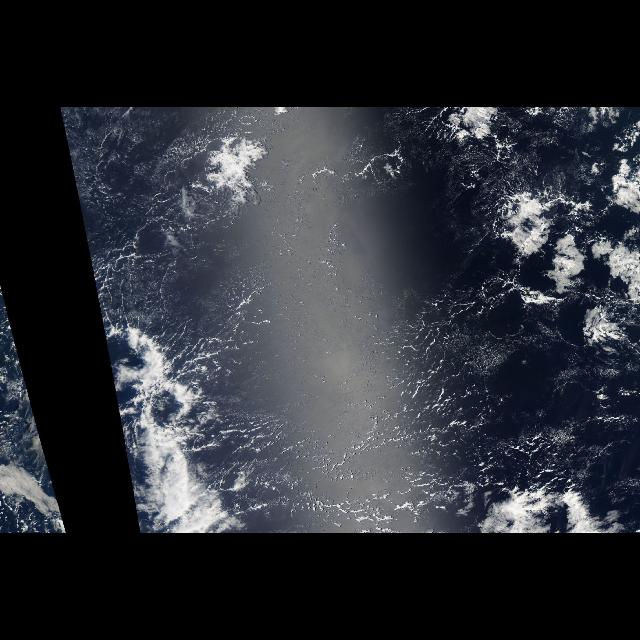Sugar: (220, 317, 504, 528)
